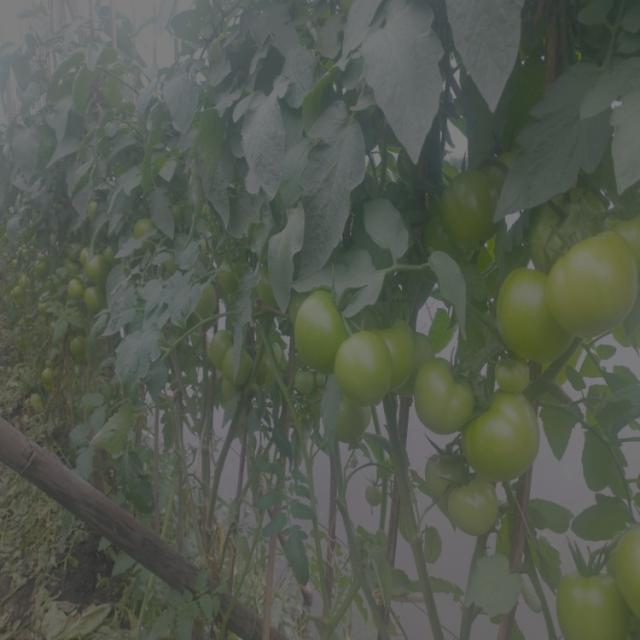tomato: (550, 245, 638, 320), (530, 179, 608, 261), (494, 278, 558, 359), (480, 391, 541, 472), (290, 286, 345, 368), (550, 574, 620, 636), (422, 357, 474, 432), (340, 319, 390, 394), (450, 165, 499, 236), (598, 535, 640, 610), (454, 478, 504, 529), (418, 448, 473, 493), (385, 315, 415, 391), (333, 394, 376, 440), (432, 222, 477, 260), (492, 359, 539, 390), (250, 279, 280, 320), (208, 329, 236, 372), (613, 212, 640, 255), (229, 350, 259, 380), (192, 280, 218, 313), (86, 287, 115, 312), (221, 268, 244, 295), (134, 218, 161, 240), (62, 335, 89, 357), (81, 256, 103, 282), (38, 364, 62, 386), (299, 374, 317, 396), (71, 280, 89, 298), (100, 247, 119, 262)
